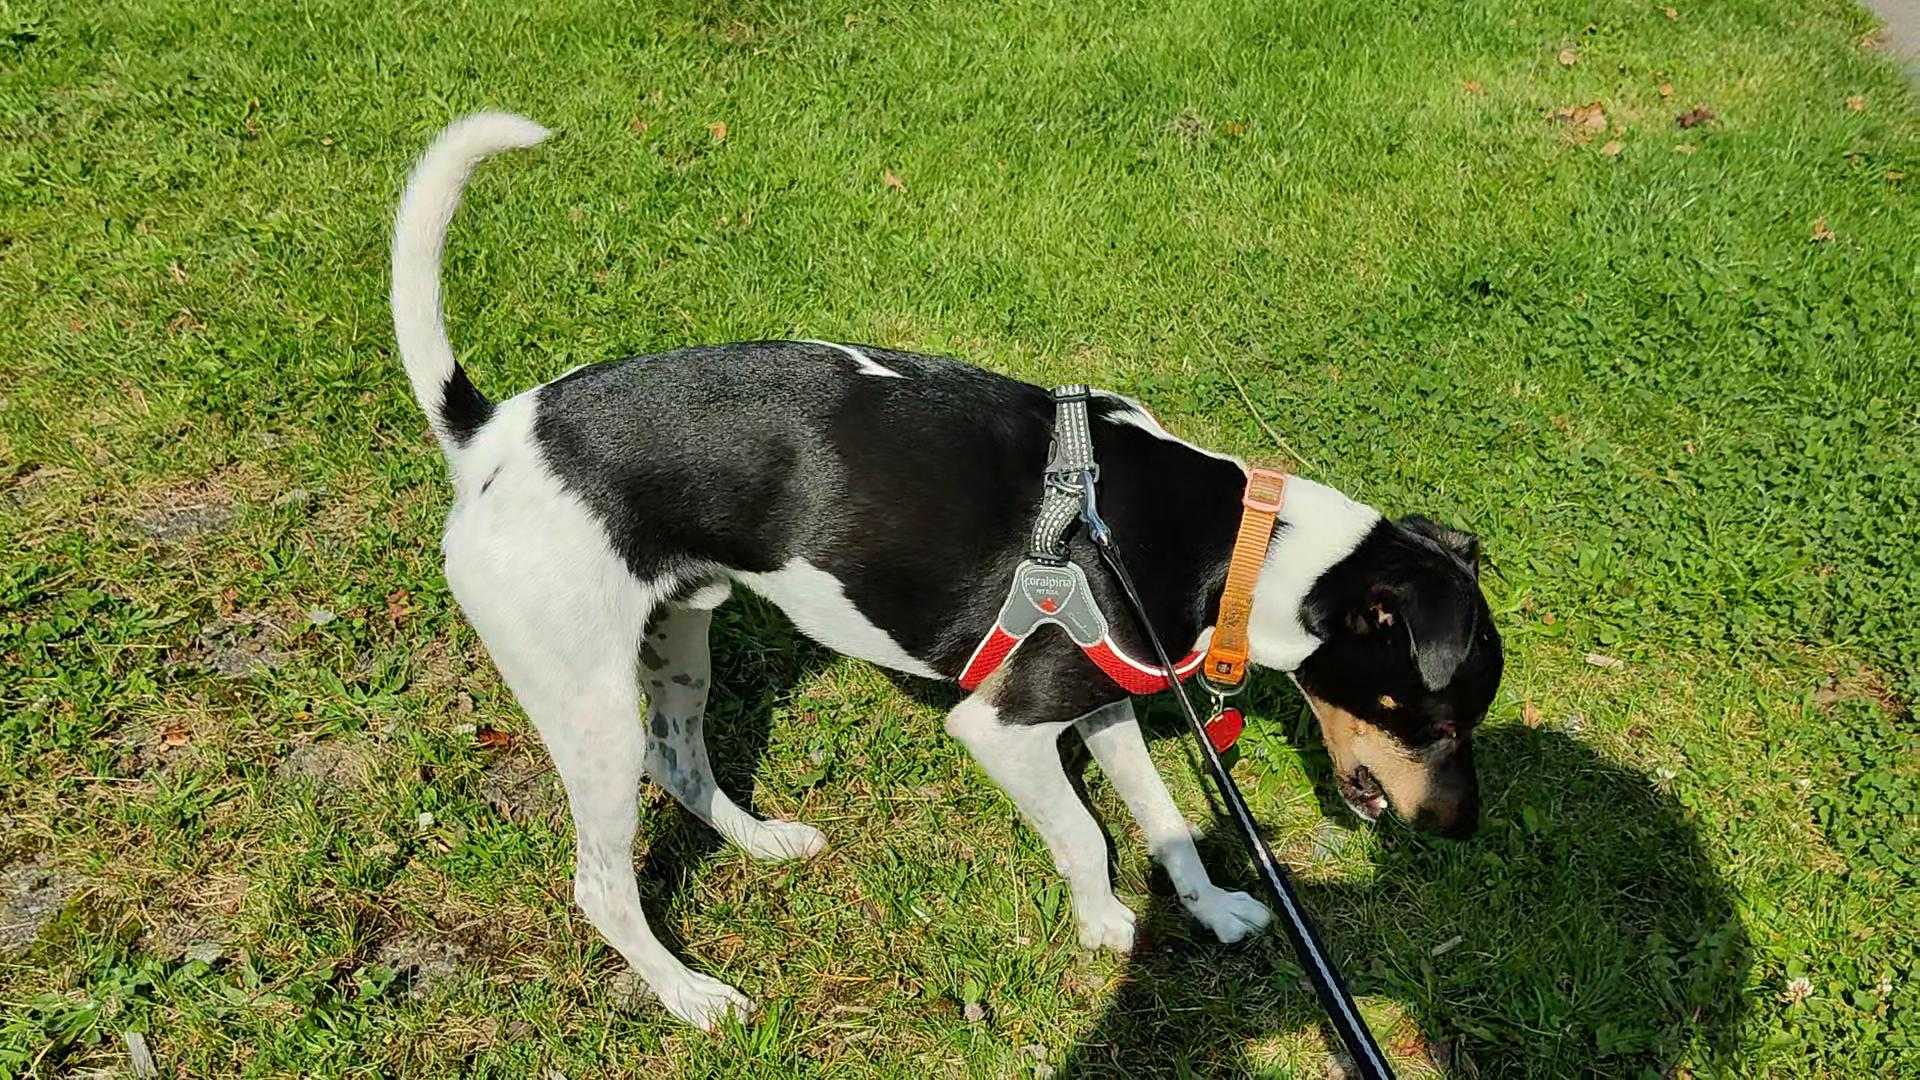Dog: (359, 90, 1528, 1038)
